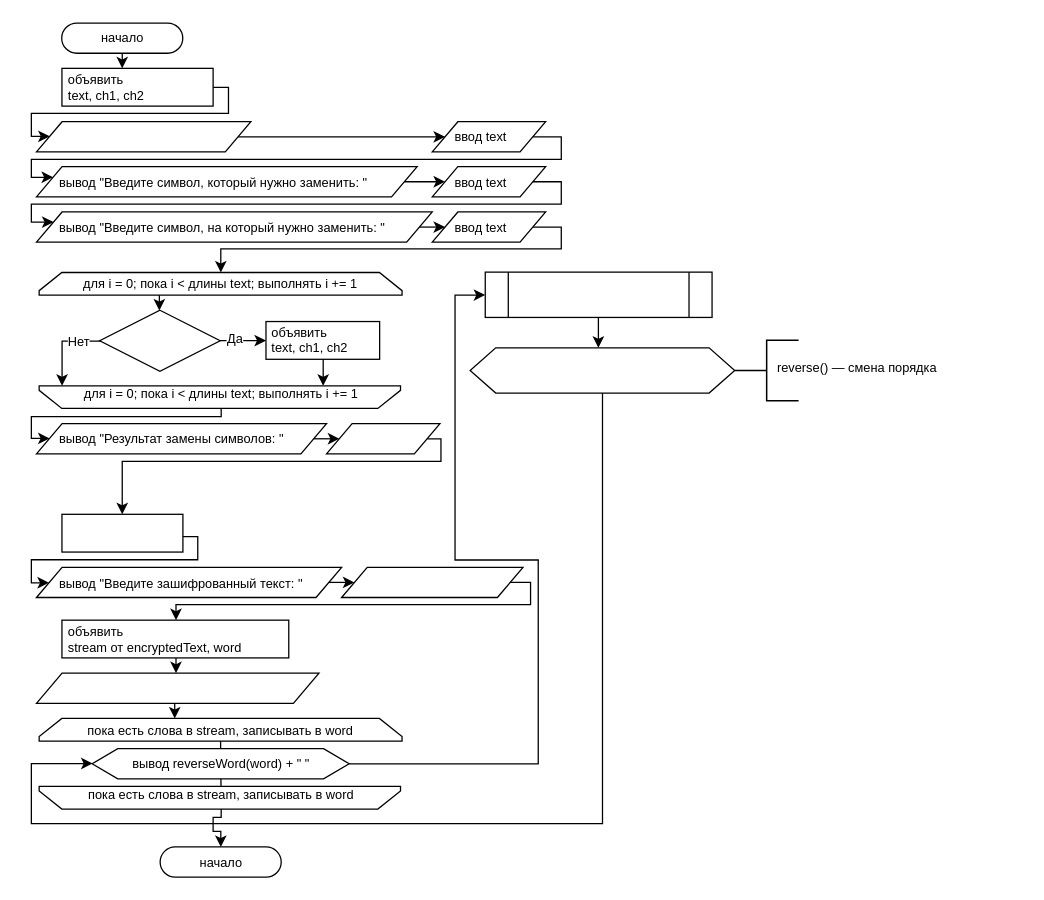
Some shapes in this 1044 by 900 pixel diagram are drawn without their labels. Here are the shapes that lost their labels. From the top down, the centre of each, then its label:
(x=143, y=136): вывод "Введите строку: "
(x=598, y=294): функция reverseWord (вход: строка word )
(x=159, y=340): i-ая буква text = ch1
(x=602, y=369): reverse(начала word, конец word)
(x=382, y=438): вывод text
(x=122, y=532): объявить encryptedText
(x=431, y=582): вывод encryptedText
(x=177, y=687): вывод "Расшифрованное сообщение: "
